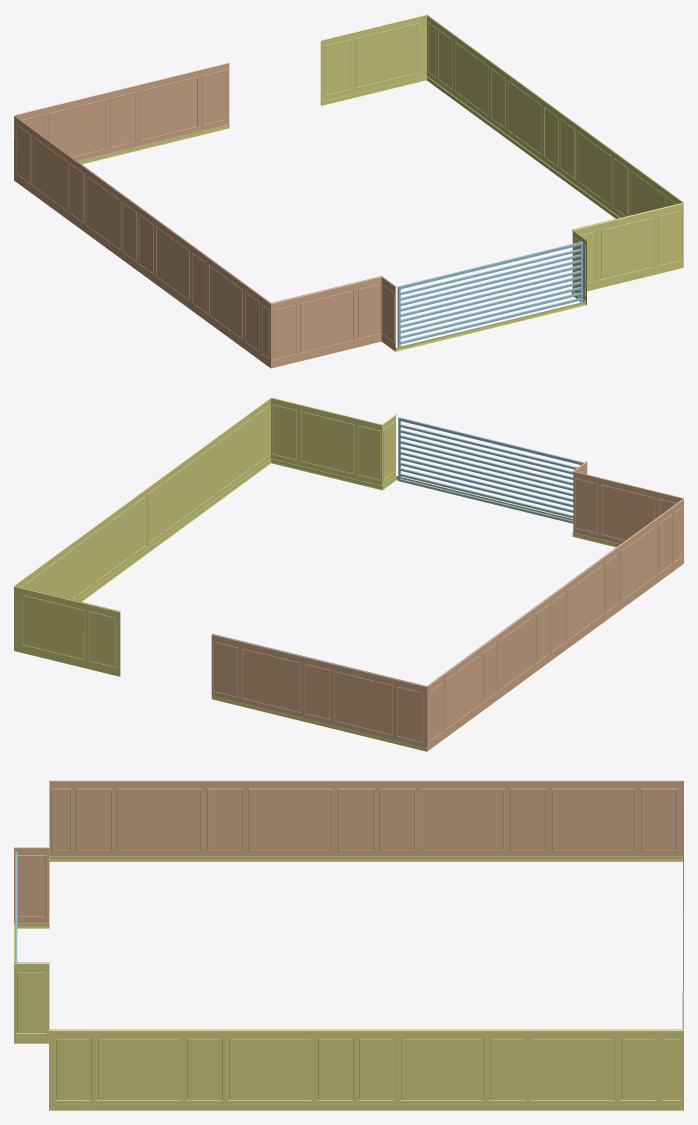
The model's file is holzpaneleJoin.fbx.
3 renders of one model, top to bottom at view 1: azimuth 30°, elevation 25°; view 2: azimuth 150°, elevation 25°; view 3: azimuth 270°, elevation 25°, orthographic. The views are drawn at different scales.
Visible parts, largest first — view 1: holzpaneleJoin; view 2: holzpaneleJoin; view 3: holzpaneleJoin.
Boxes of the visible parts, x1,y1,x2,y2 form: holzpaneleJoin: (14,14,683,368); holzpaneleJoin: (14,397,683,751); holzpaneleJoin: (14,780,683,1110).
Bounding box in the file's own units: 511 × 77.39 × 580.
